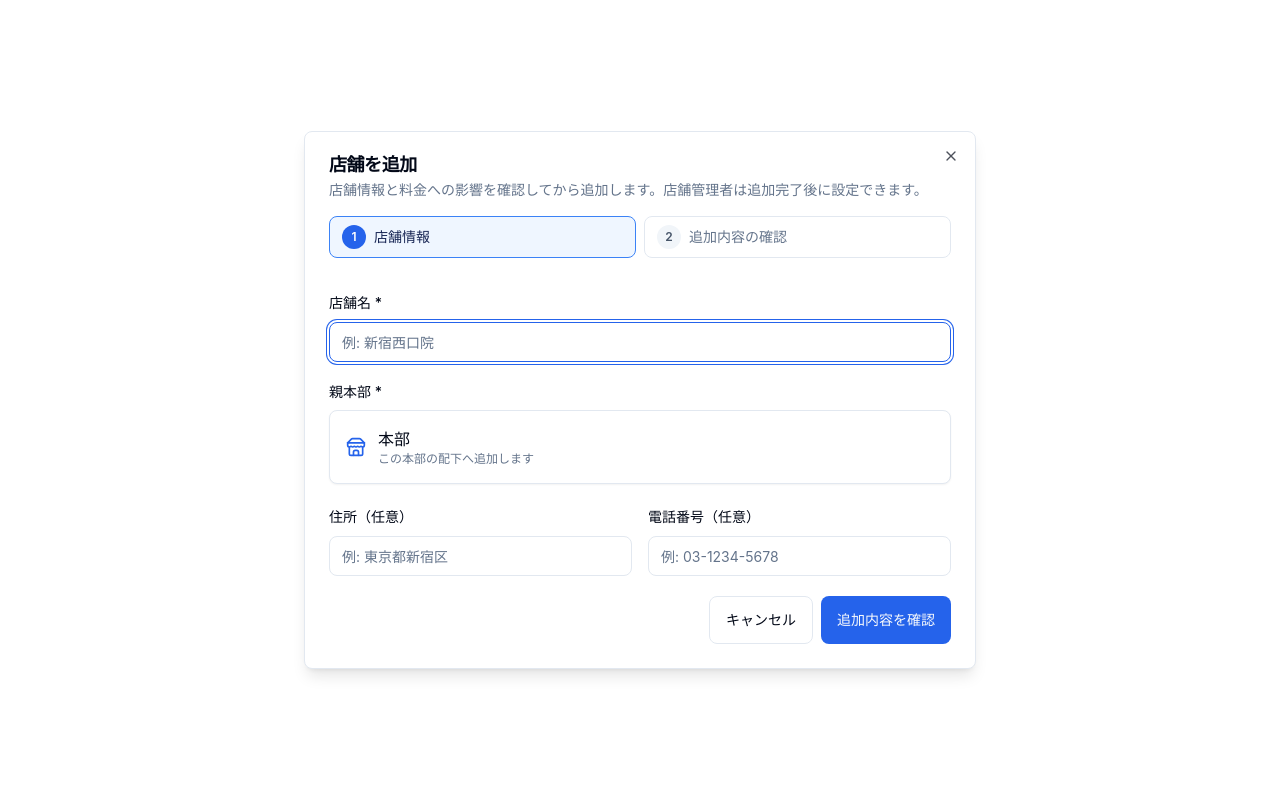
Scenario: TenantAddDialog › 料金を確定できない場合は追加を無効化し契約画面へ案内する
The image size is (1280, 800).
Type "新宿西口院" into the field labelled "店舗名 *" at (640, 342), box x1=329 y1=322 x2=951 y2=362
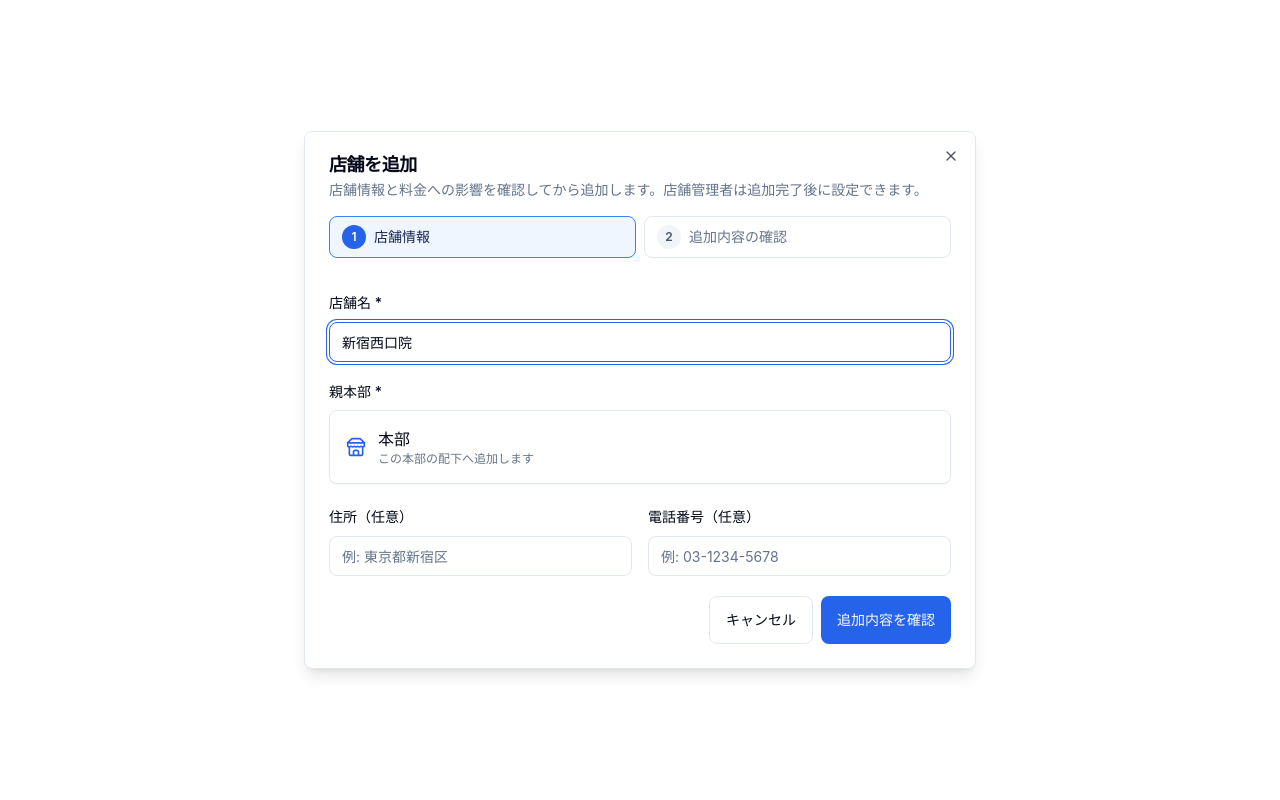
Click the button "追加内容を確認" at (886, 620), box x1=821 y1=596 x2=951 y2=644
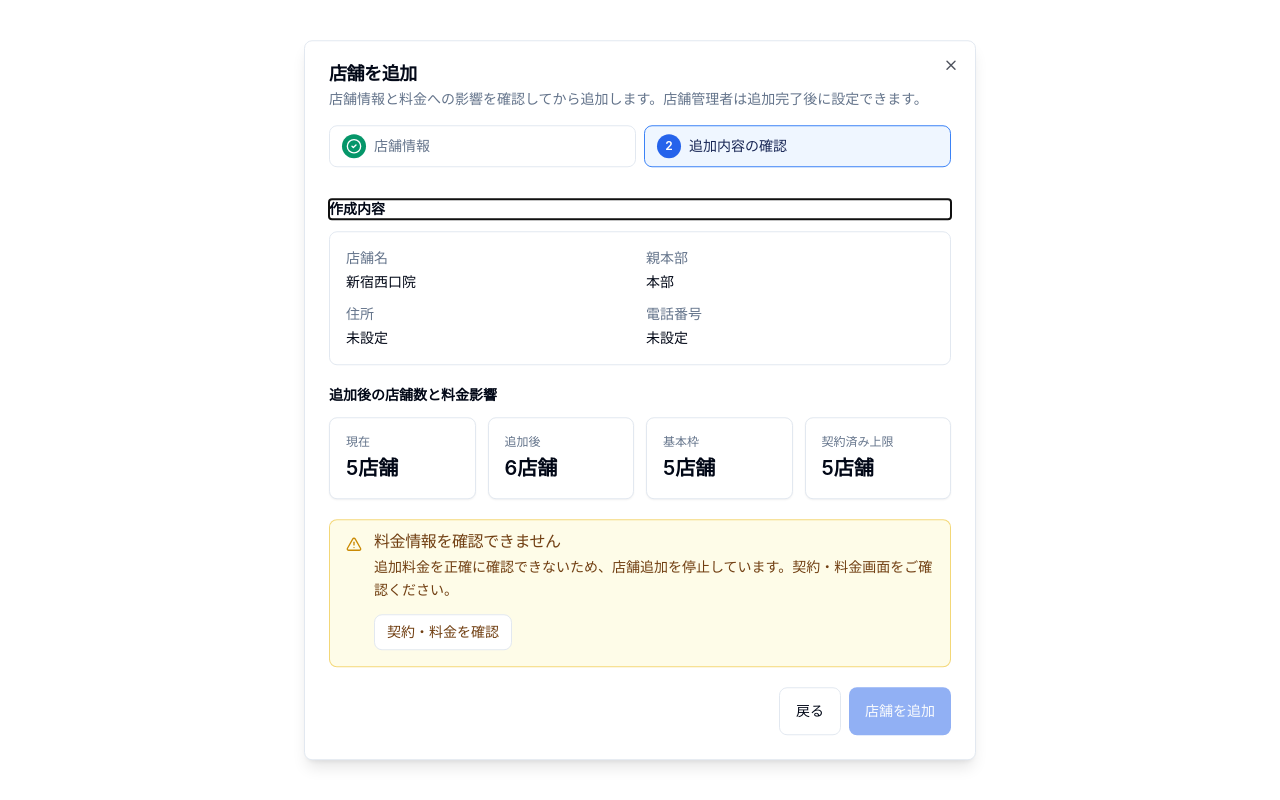
Expected: the heading "料金情報を確認できません" is shown, x1=374 y1=531 x2=561 y2=551
Expected: the button "店舗を追加" is disabled, x1=849 y1=687 x2=951 y2=735
